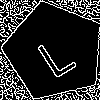L: (29, 26, 78, 80)
